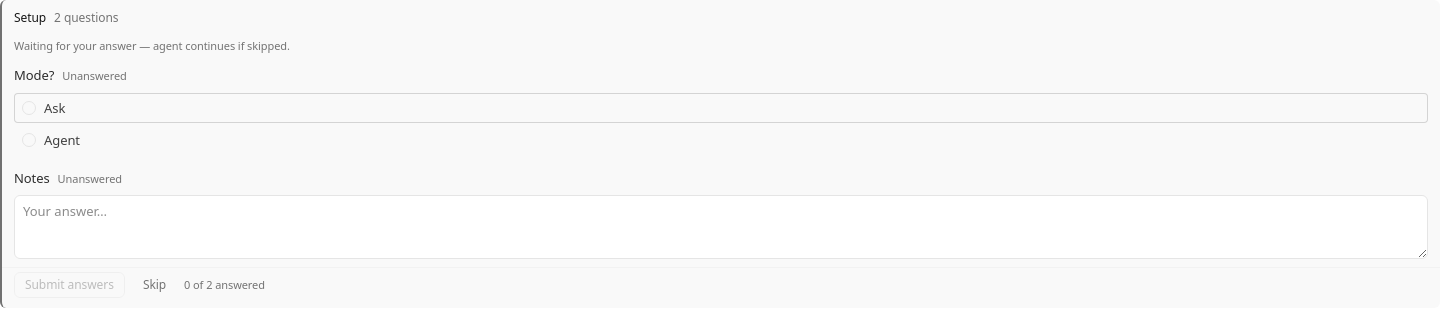
Test: AskQuestionPanel › dims unanswered prompts and shows labeled settled summary for multi-question forms
The image size is (1440, 325).
Click the radio button labelled "Ask" at (29, 108), box [14,92,1428,123]
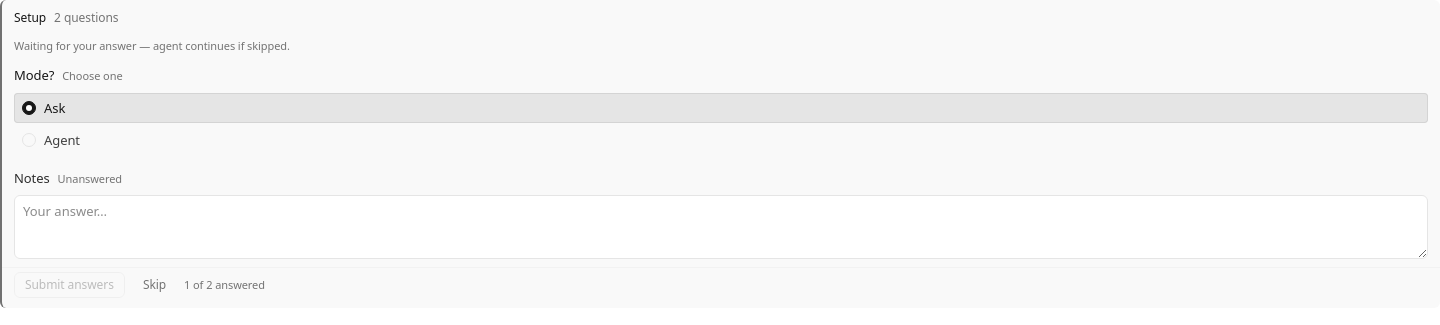
Type "ship it" into the text box with placeholder "Your answer…" at (721, 227), box [14,195,1428,259]
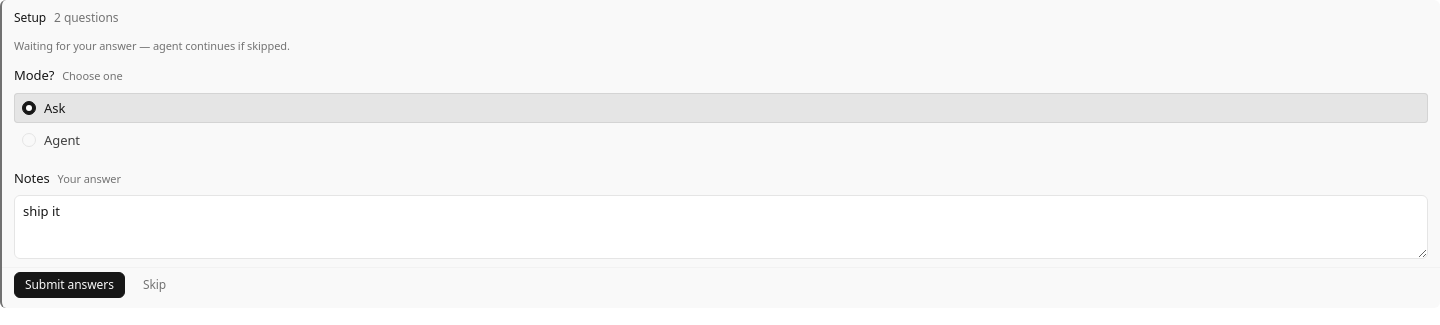
Click the button "Submit answers" at (69, 285), box [14,272,125,298]
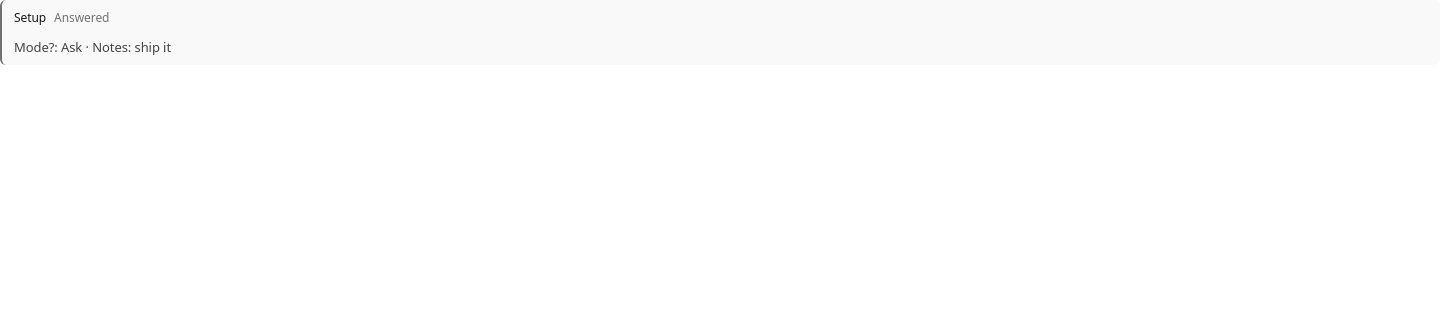
Now the text "Answered" is shown, box [54,10,109,26]
Now the text "Mode?: Ask · Notes: ship it" is shown, box [14,38,171,56]
Now the button "Submit answers" is gone
